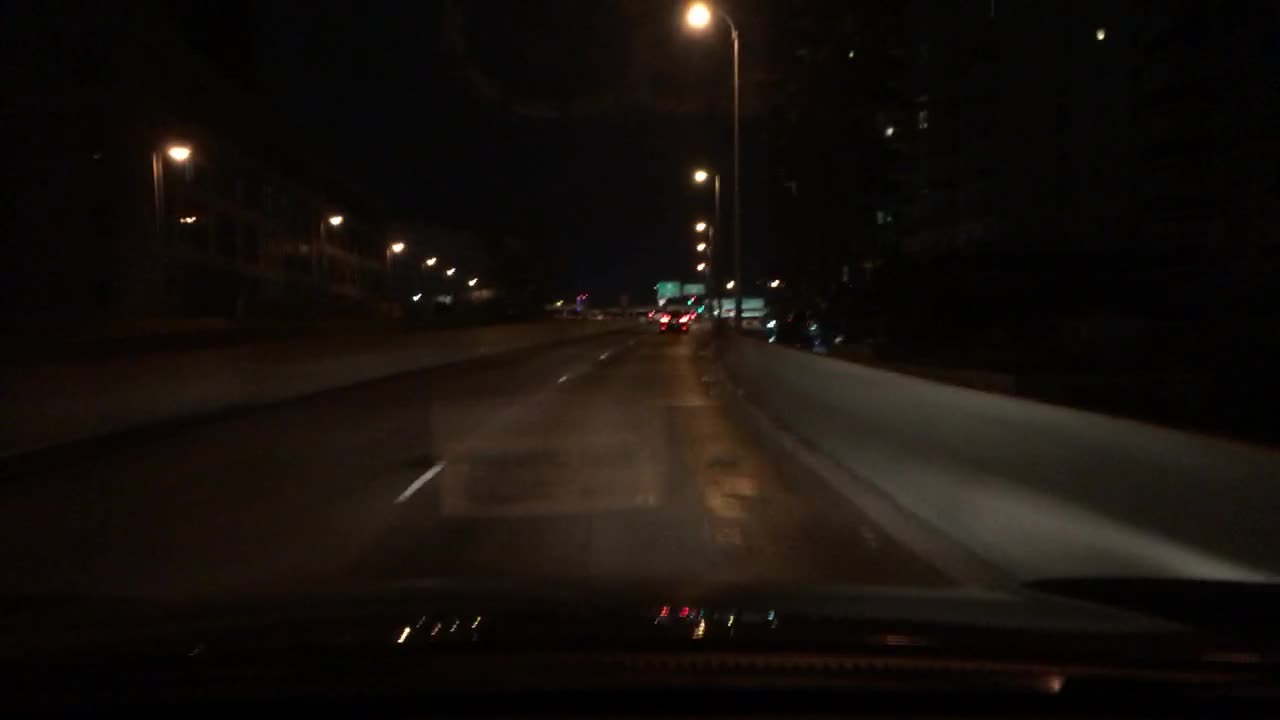car: (658, 306, 694, 331), (565, 304, 582, 319), (588, 308, 605, 322)
traffic sign: (657, 282, 682, 296), (743, 297, 764, 310), (683, 283, 705, 295), (721, 296, 735, 308), (716, 309, 737, 317), (743, 311, 766, 317)
